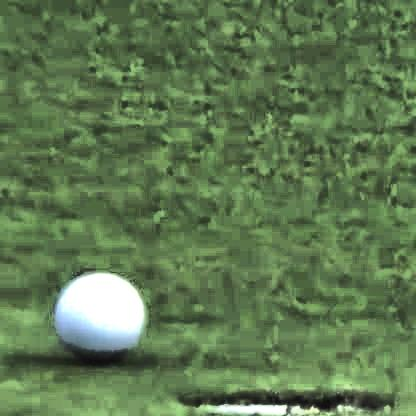golfball: (54, 264, 143, 360)
